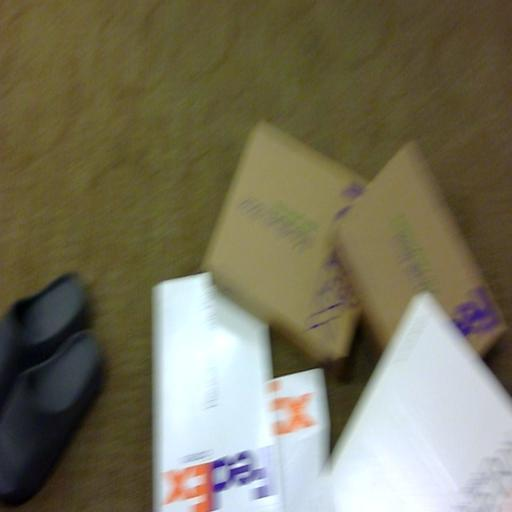Amazon: (145, 268, 269, 512)
